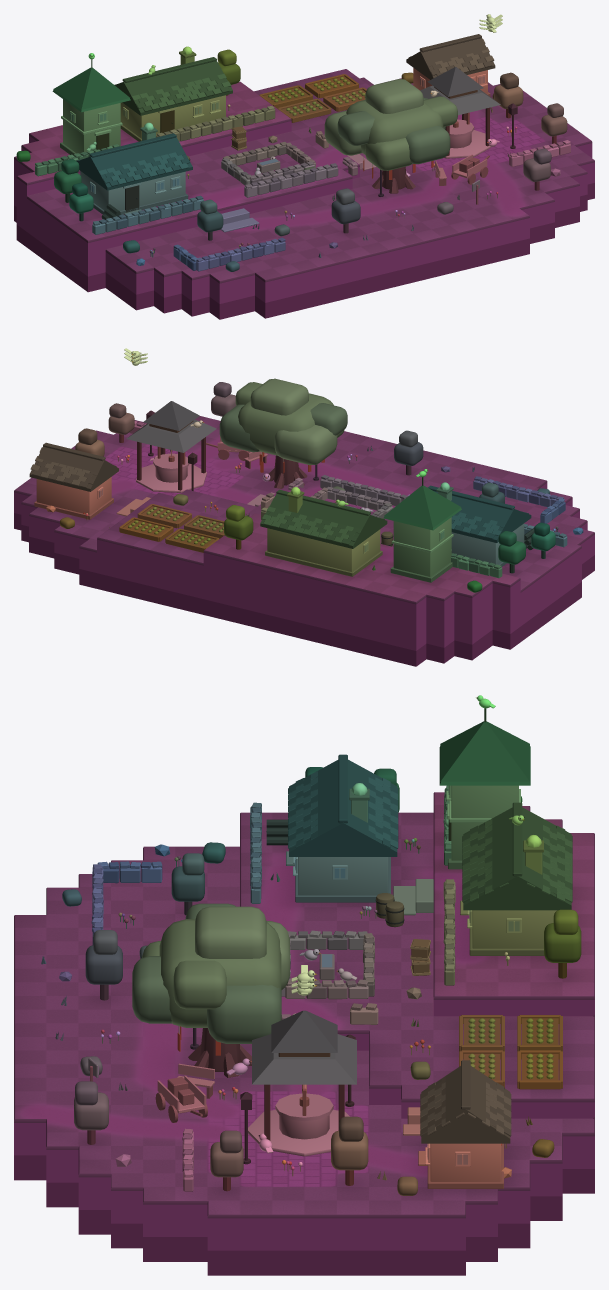
File: grass_3.glb
The picture shows the model from 3 angles, top to bottom: view 1: azimuth 30°, elevation 25°; view 2: azimuth 150°, elevation 25°; view 3: azimuth 270°, elevation 25°; orthographic projection. The views are drawn at different scales.
Parts seen in each view (by area): view 1: Terrain.001, Buildings, Props, Trees, Greenery; view 2: Terrain.001, Buildings, Trees, Props, Greenery; view 3: Terrain.001, Buildings, Trees, Props, Greenery.
Boxes of the visible parts, bbox=[...] form: Terrain.001: bbox=[14, 69, 594, 319]; Buildings: bbox=[52, 34, 500, 214]; Props: bbox=[35, 14, 570, 271]; Trees: bbox=[54, 49, 567, 240]; Greenery: bbox=[16, 72, 517, 271]; Terrain.001: bbox=[14, 416, 594, 666]; Buildings: bbox=[29, 401, 531, 582]; Trees: bbox=[75, 378, 555, 573]; Props: bbox=[46, 348, 583, 578]; Greenery: bbox=[60, 446, 558, 592]; Terrain.001: bbox=[14, 792, 594, 1275]; Buildings: bbox=[248, 708, 572, 1188]; Trees: bbox=[74, 767, 581, 1191]; Props: bbox=[59, 695, 562, 1191]; Greenery: bbox=[41, 796, 554, 1195].
Bounding box in the file's own units: 28 × 8.88 × 18.
Materials: 44 (1 with a texture image).
